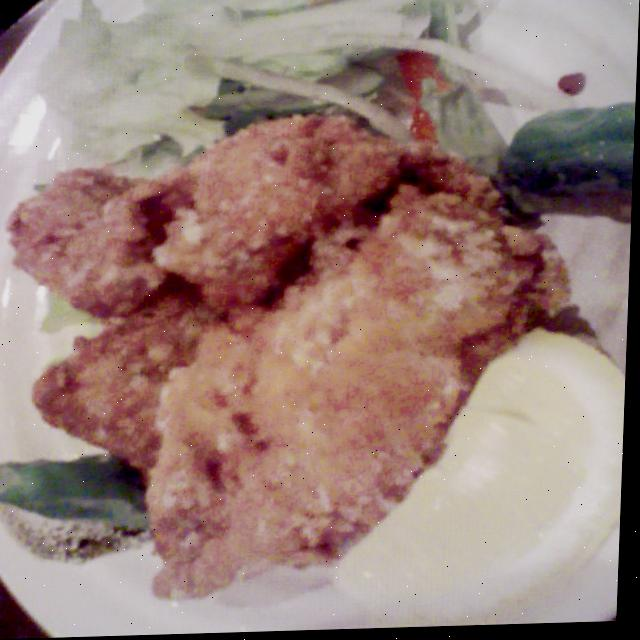鸡肉料理 含炸鸡: (0, 73, 586, 599)
